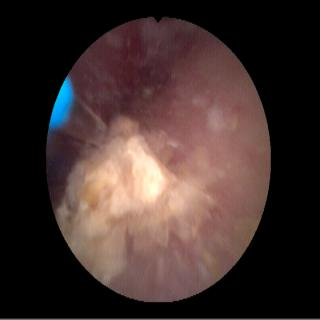fiber: (51, 81, 70, 130)
stone: (57, 115, 221, 283)
